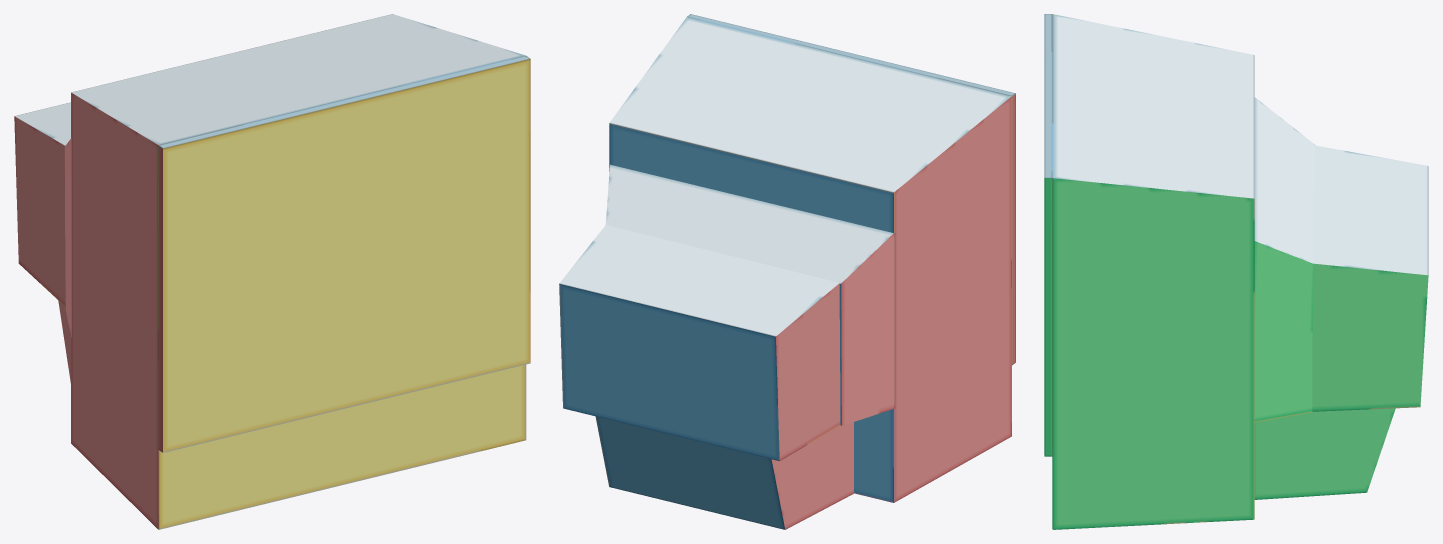
Rendered from crt_tv.obj.
3 views of the same model, side by side, from view 1: azimuth 30°, elevation 25°; view 2: azimuth 150°, elevation 25°; view 3: azimuth 270°, elevation 25° (orthographic). The views are drawn at different scales.
Parts seen in each view (by area): view 1: mesh; view 2: mesh; view 3: mesh.
Boxes of the visible parts, box(x1,y1,x2,y2) form: mesh: box(14, 14, 530, 529); mesh: box(559, 14, 1015, 529); mesh: box(1044, 14, 1428, 529).
Bounding box in the file's own units: 3 × 3 × 2.97.
1 material, 1 textured.
